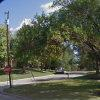Tree: (37, 6, 100, 66)
